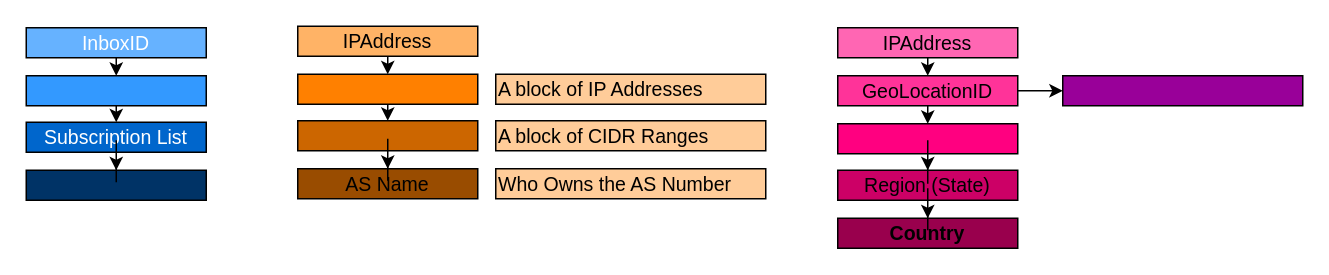
The diagram is 1329 pixels wide and 275 high, and some of its shapes have lost their labels. The shapes that lost their labels are listed below. From the top down, each one's centre as x and y in pixels, then its label:
pixel 115 90: Campaign
pixel 387 88: CIDR Range
pixel 1182 90: TimeZone (Olson Name)
pixel 387 135: AS Number
pixel 927 138: Postal Code
pixel 115 184: Company
